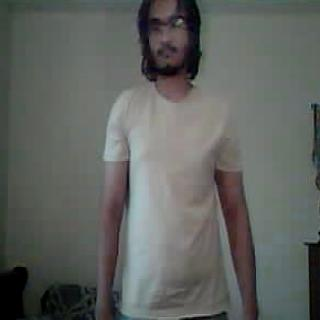Yellow T-Shirt: (105, 78, 241, 318)
